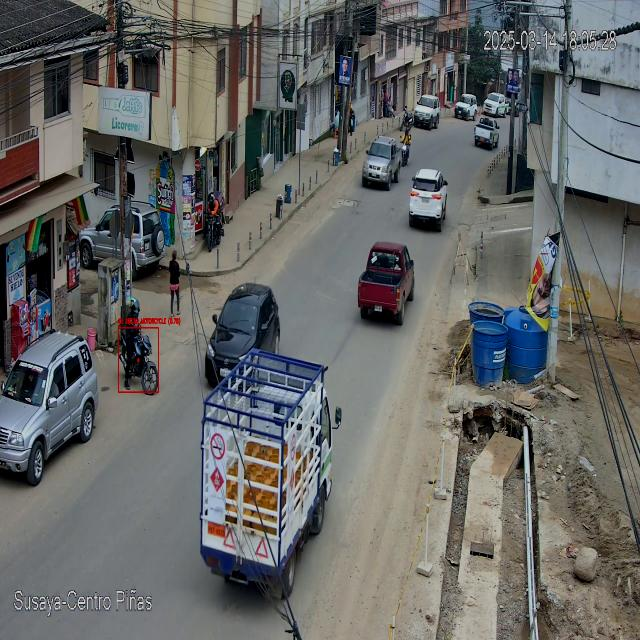CMT: (358, 240, 415, 326), (362, 135, 402, 191)
SUV: (409, 168, 448, 232)
TRUCK: (199, 349, 341, 596)
